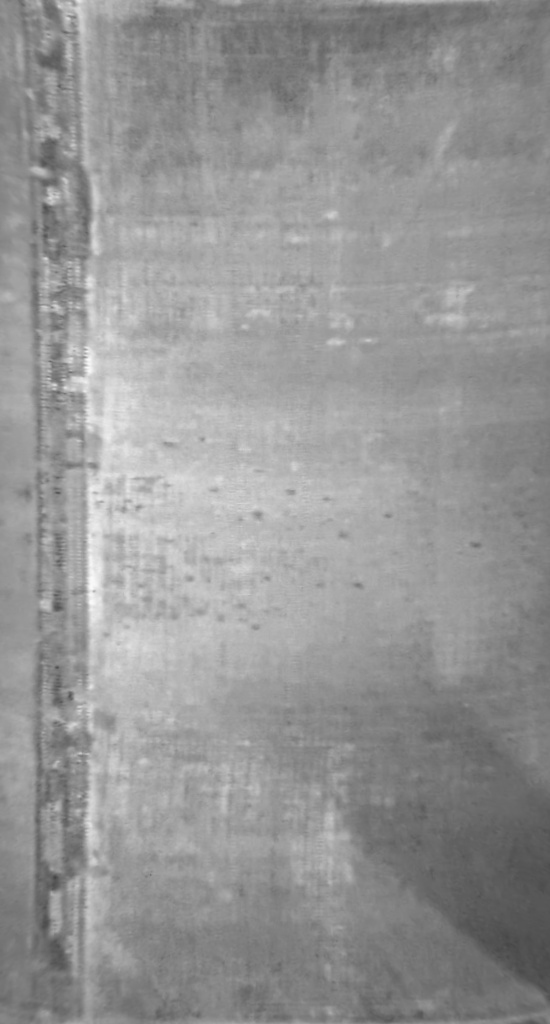splice: (16, 1, 113, 1021)
